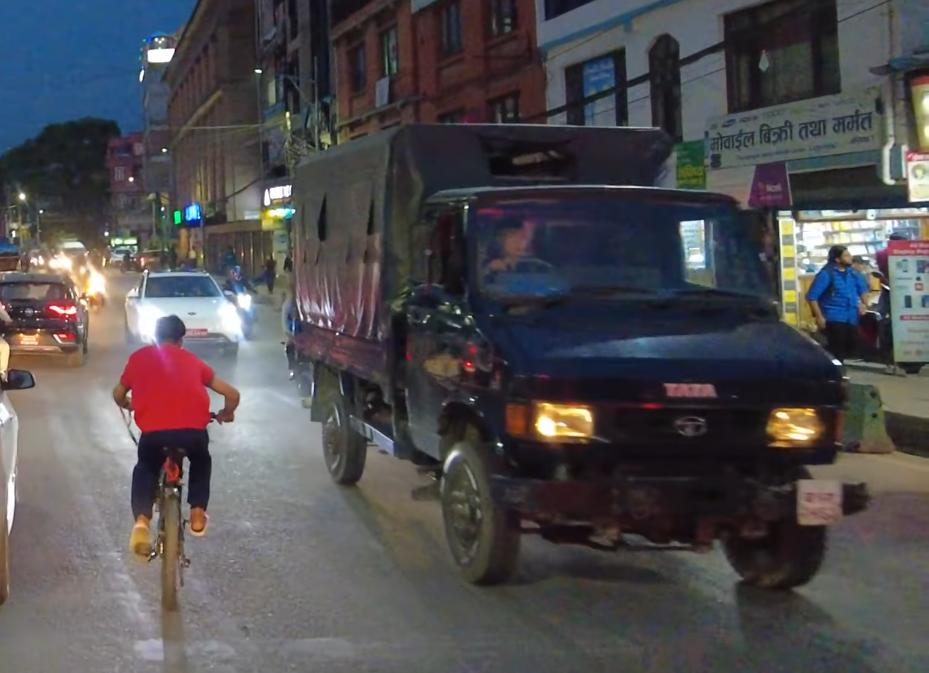car: (116, 253, 258, 384), (0, 243, 102, 386)
mini_truck: (278, 118, 863, 613)
